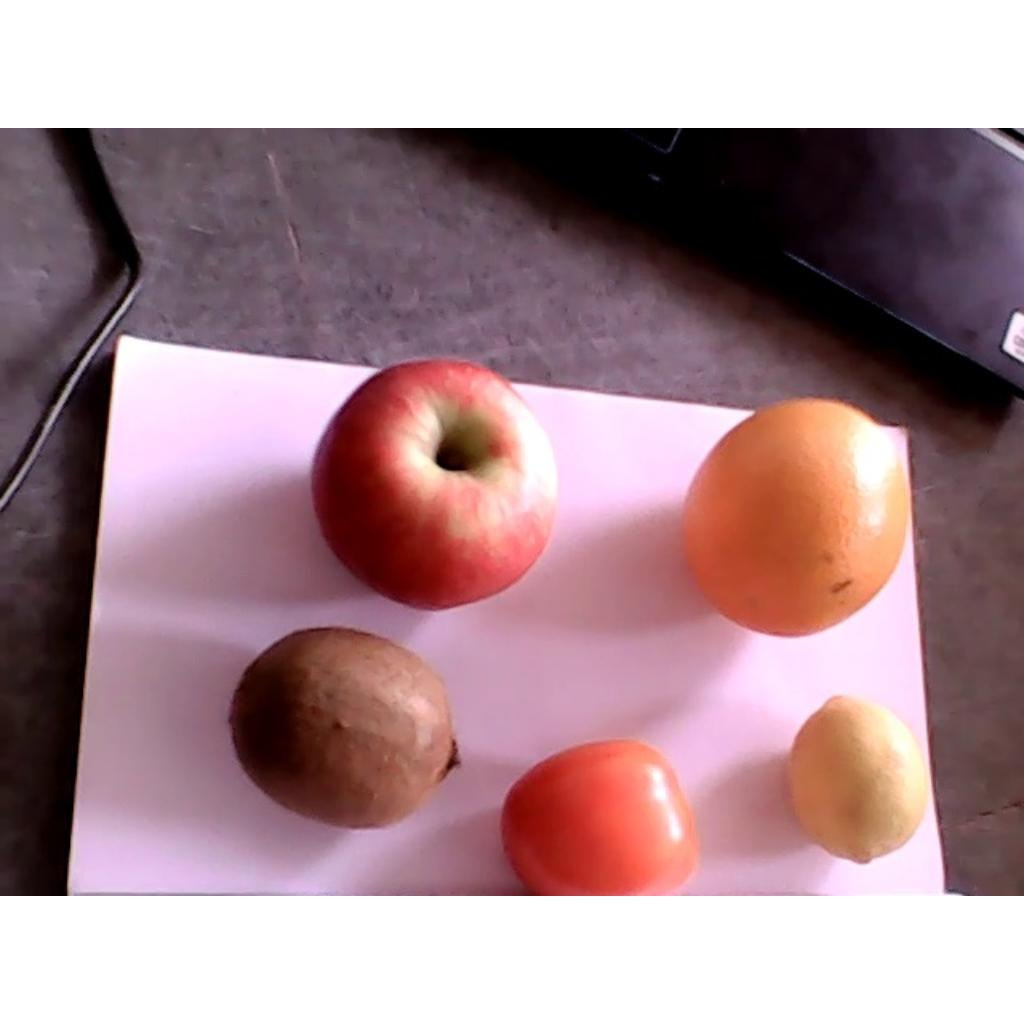apple: (309, 358, 560, 610)
kiwi: (230, 626, 461, 828)
lemon: (790, 694, 929, 866)
orange: (678, 398, 911, 636)
tomato: (502, 740, 699, 894)
